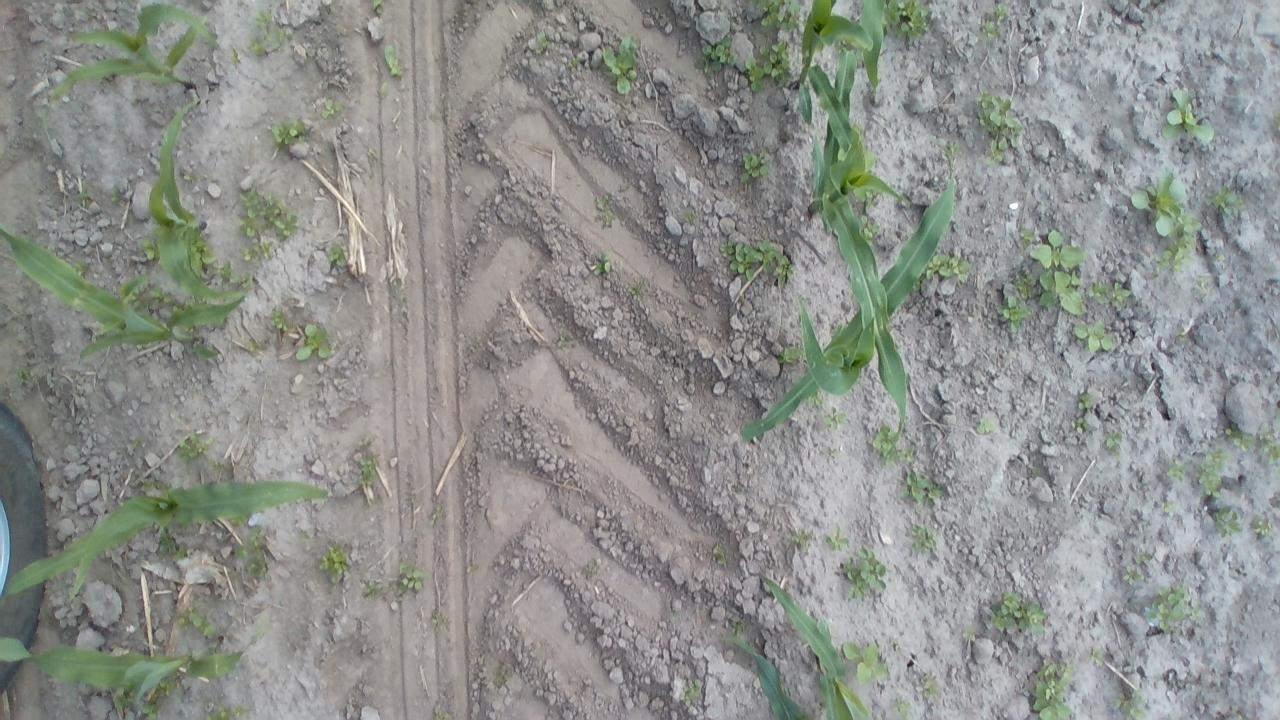Maize: (741, 140, 954, 444), (809, 23, 910, 450), (3, 478, 330, 607), (0, 219, 244, 360), (36, 0, 220, 144), (0, 622, 267, 706), (143, 98, 242, 300), (759, 571, 872, 720), (792, 0, 882, 93), (719, 633, 805, 720)
Weeds: (1029, 228, 1086, 316), (1131, 166, 1186, 238), (974, 87, 1024, 166), (236, 185, 300, 241), (720, 240, 796, 286), (1151, 214, 1203, 276), (1160, 90, 1216, 146), (1145, 582, 1202, 633), (990, 590, 1048, 635), (1032, 659, 1074, 720), (841, 546, 887, 600), (746, 40, 790, 94), (246, 9, 292, 57), (841, 641, 888, 687), (602, 35, 638, 95), (882, 0, 931, 40), (1196, 445, 1232, 499), (694, 36, 736, 82), (898, 467, 944, 507), (236, 527, 269, 580), (750, 0, 801, 33), (995, 296, 1033, 334), (924, 254, 971, 284), (295, 323, 331, 360), (1073, 319, 1113, 352), (318, 543, 351, 583), (1203, 184, 1244, 216), (112, 693, 160, 720), (178, 602, 216, 636), (212, 261, 252, 293), (1110, 690, 1147, 720), (872, 425, 898, 466), (178, 432, 214, 461), (189, 228, 217, 264), (739, 150, 770, 182), (909, 523, 941, 554), (1225, 422, 1258, 452), (271, 119, 307, 146), (1212, 506, 1242, 538), (398, 562, 426, 594), (242, 237, 274, 264), (1259, 422, 1280, 463), (1011, 273, 1042, 300), (150, 285, 180, 311), (156, 671, 183, 698), (1086, 276, 1110, 306), (859, 215, 880, 248), (824, 526, 850, 552), (128, 284, 149, 316), (1103, 430, 1125, 459), (1166, 458, 1190, 483), (822, 406, 847, 430), (384, 44, 402, 77), (359, 454, 377, 487), (680, 679, 701, 707), (158, 523, 176, 555), (1110, 282, 1130, 310), (552, 324, 574, 348), (534, 32, 558, 54), (1250, 511, 1271, 536), (390, 278, 408, 306), (140, 236, 160, 260), (777, 346, 805, 363), (891, 696, 913, 717), (322, 99, 345, 119), (978, 20, 1002, 39), (140, 479, 170, 494), (269, 310, 290, 331), (792, 530, 812, 552), (922, 675, 942, 697), (328, 243, 347, 266), (594, 252, 612, 276), (13, 364, 30, 389), (1086, 646, 1106, 666), (595, 210, 615, 229), (1123, 566, 1144, 584), (1070, 417, 1092, 434), (204, 706, 230, 720), (628, 282, 646, 302), (1018, 229, 1036, 249), (185, 294, 210, 308), (988, 3, 1008, 20), (898, 444, 916, 462), (494, 668, 512, 686), (363, 580, 382, 597), (976, 418, 996, 434), (712, 544, 726, 566), (946, 140, 964, 157), (208, 460, 232, 472), (71, 259, 87, 276), (431, 613, 445, 632), (172, 546, 188, 562), (1078, 394, 1094, 410), (596, 195, 613, 210), (1160, 500, 1178, 514), (229, 45, 241, 66), (732, 620, 746, 638), (1134, 552, 1154, 564), (230, 515, 250, 527), (430, 506, 442, 526), (865, 192, 878, 210), (76, 182, 89, 200), (962, 625, 976, 641), (232, 704, 248, 718), (836, 37, 849, 54), (808, 391, 822, 406), (683, 211, 697, 224), (373, 0, 386, 14), (1176, 327, 1188, 342), (109, 187, 121, 202), (913, 274, 923, 292), (434, 711, 453, 720), (360, 435, 374, 447), (1194, 280, 1208, 292), (379, 82, 389, 98), (825, 447, 839, 458), (1273, 110, 1280, 132), (372, 492, 383, 506), (362, 500, 372, 515), (368, 148, 380, 160), (245, 341, 257, 352), (567, 57, 580, 67), (319, 148, 332, 158), (300, 530, 310, 542), (428, 112, 439, 122), (1214, 254, 1226, 262), (1032, 466, 1041, 474), (132, 439, 140, 448), (184, 173, 194, 180), (1275, 464, 1280, 476), (890, 638, 900, 644), (1276, 408, 1280, 421)
